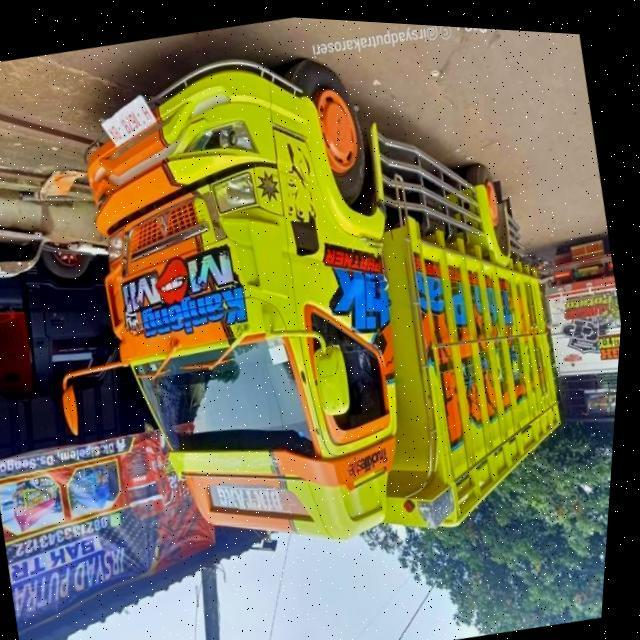truck: (0, 1, 608, 607), (526, 212, 630, 382)
